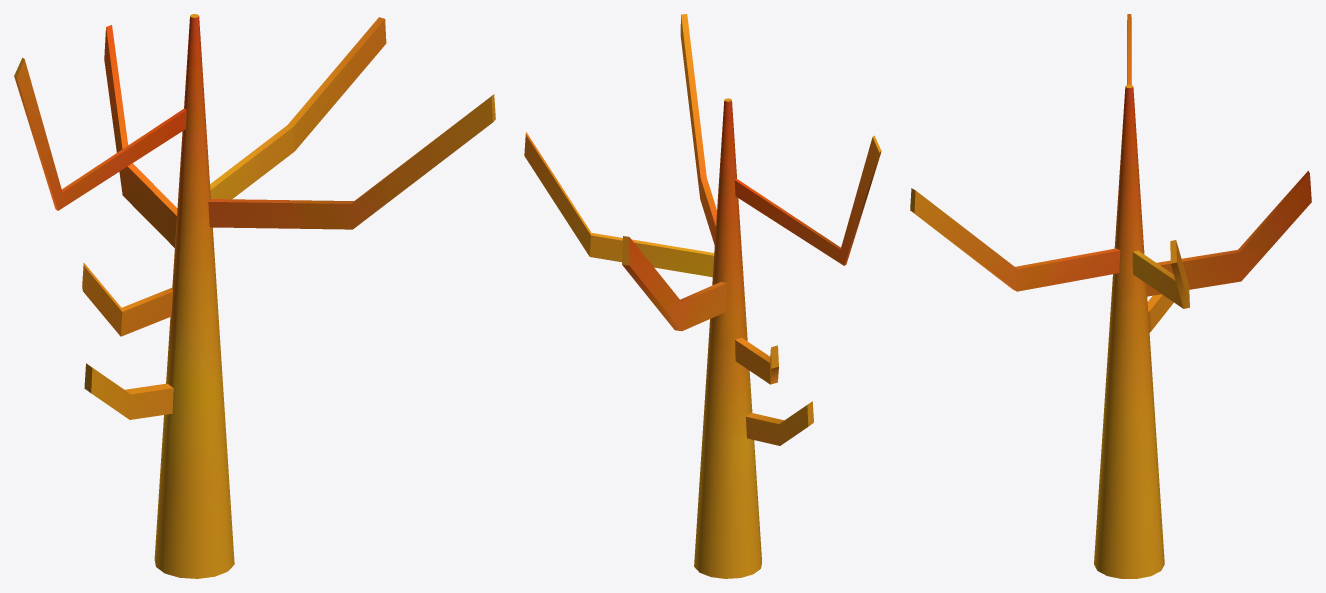
File: Tree1.fbx
3 renders of one model, left to right at view 1: azimuth 30°, elevation 25°; view 2: azimuth 150°, elevation 25°; view 3: azimuth 270°, elevation 25°, orthographic. The views are drawn at different scales.
Visible parts, largest first — view 1: Old_tree; view 2: Old_tree; view 3: Old_tree.
Boxes of the visible parts, left/top/right/bottom form: Old_tree: left=14, top=14, right=495, bottom=578; Old_tree: left=524, top=14, right=881, bottom=578; Old_tree: left=910, top=14, right=1311, bottom=578.
Size of the model in its own units: 313 by 414 by 316.
1 material, 1 textured.
